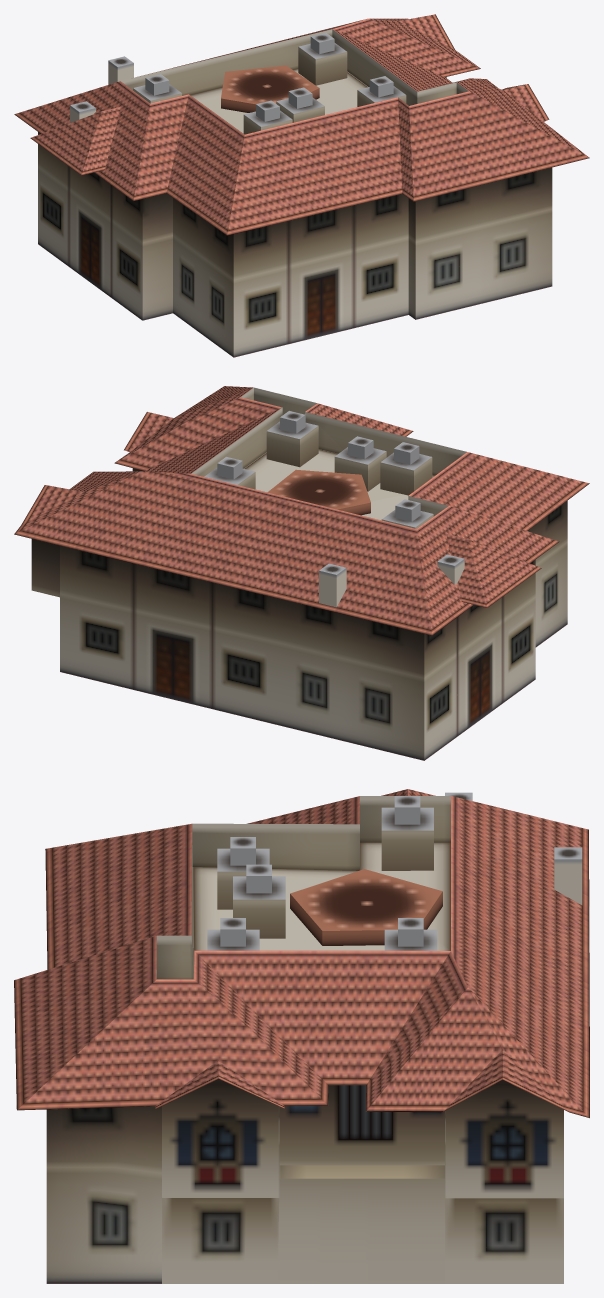
Rendered from ExpensiveHome.fbx.
The picture shows the model from 3 angles, top to bottom: view 1: azimuth 30°, elevation 25°; view 2: azimuth 150°, elevation 25°; view 3: azimuth 270°, elevation 25°; orthographic projection. The views are drawn at different scales.
Visible parts, largest first — view 1: Expensive_Home_1A3; view 2: Expensive_Home_1A3; view 3: Expensive_Home_1A3.
Part boxes in pixels (x1,y1,x2,y2): Expensive_Home_1A3: (14, 14, 589, 357); Expensive_Home_1A3: (14, 386, 589, 760); Expensive_Home_1A3: (14, 789, 589, 1283).
Size of the model in its own units: 8.3 by 3.6 by 6.71.
